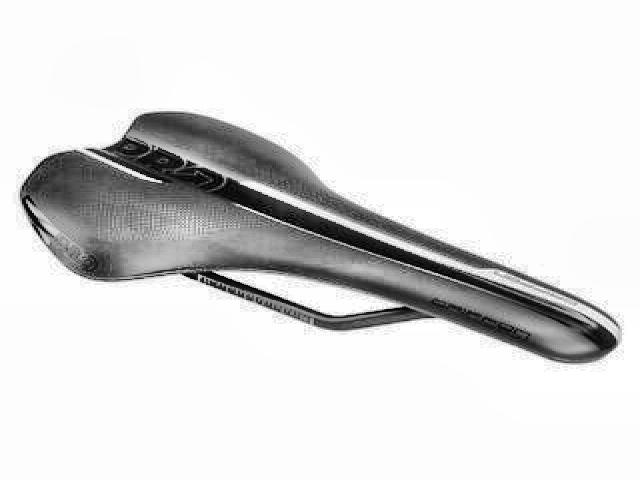saddle: (16, 109, 622, 368)
